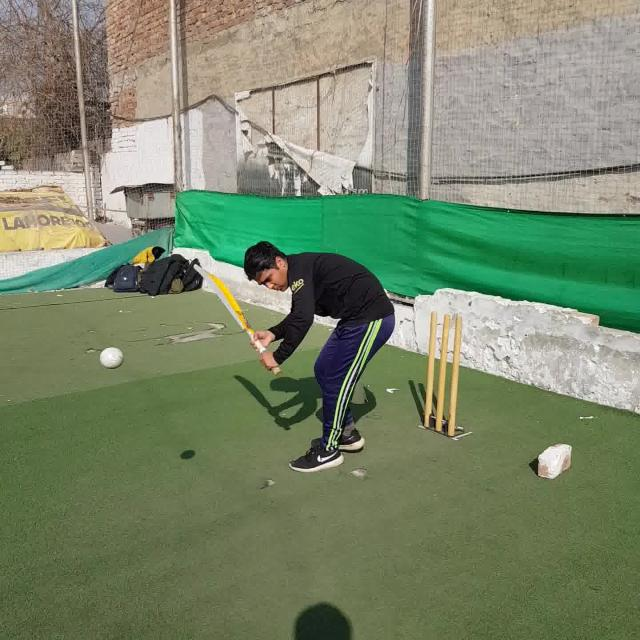ball: (99, 345, 123, 368)
bat: (194, 266, 280, 373)
